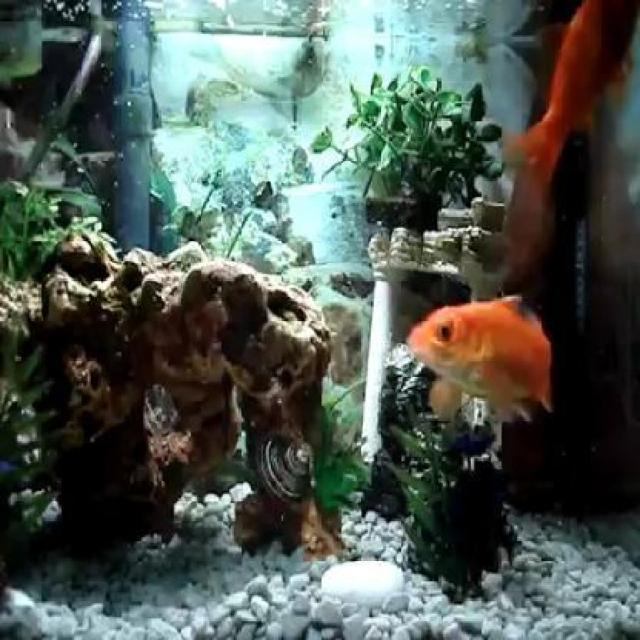GoldFish: (406, 296, 554, 416)
